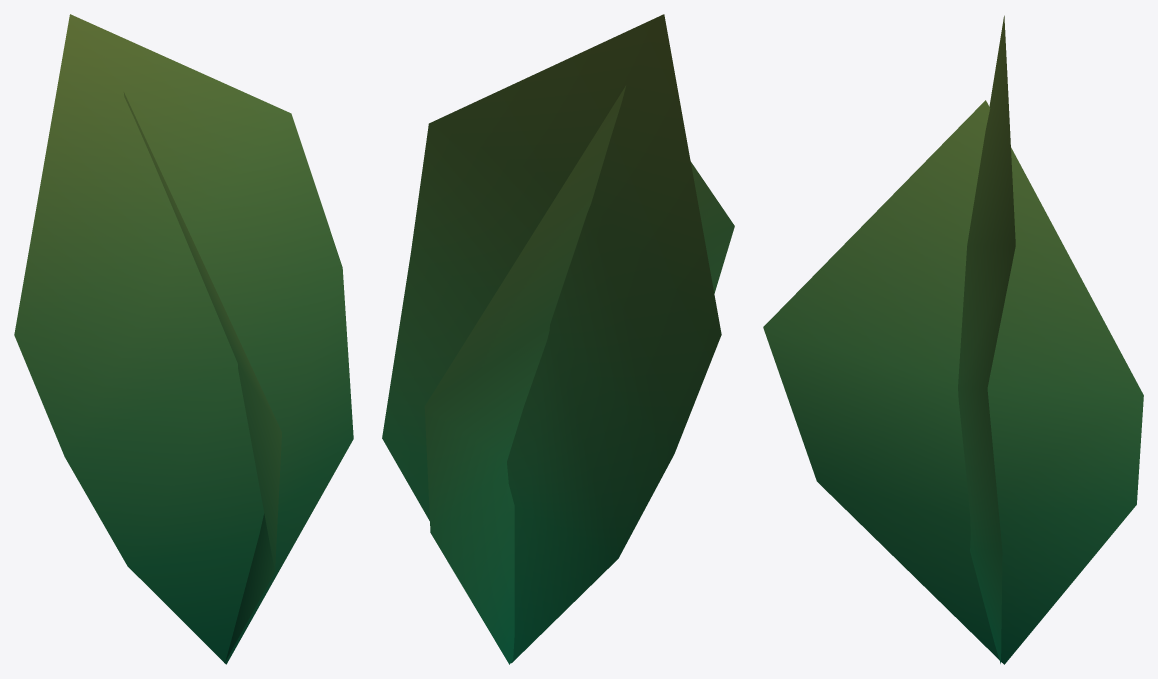
File: moss_01_4.glb
3 views of the same model, side by side, from view 1: azimuth 30°, elevation 25°; view 2: azimuth 150°, elevation 25°; view 3: azimuth 270°, elevation 25° (orthographic). The views are drawn at different scales.
Parts seen in each view (by area): view 1: moss_01_e_LOD0; view 2: moss_01_e_LOD0; view 3: moss_01_e_LOD0.
Boxes of the visible parts, bbox=[...] form: moss_01_e_LOD0: bbox=[14, 14, 353, 664]; moss_01_e_LOD0: bbox=[382, 14, 734, 664]; moss_01_e_LOD0: bbox=[763, 15, 1143, 664].
Size of the model in its own units: 0.0112 by 0.0216 by 0.0127.
